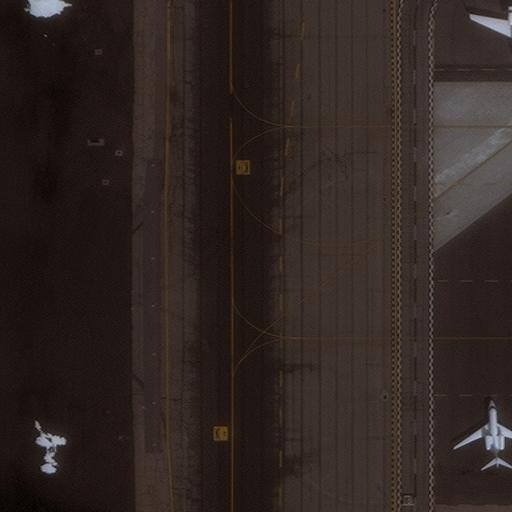Medium Civil Transport: (452, 398, 511, 466), (469, 0, 511, 60)
